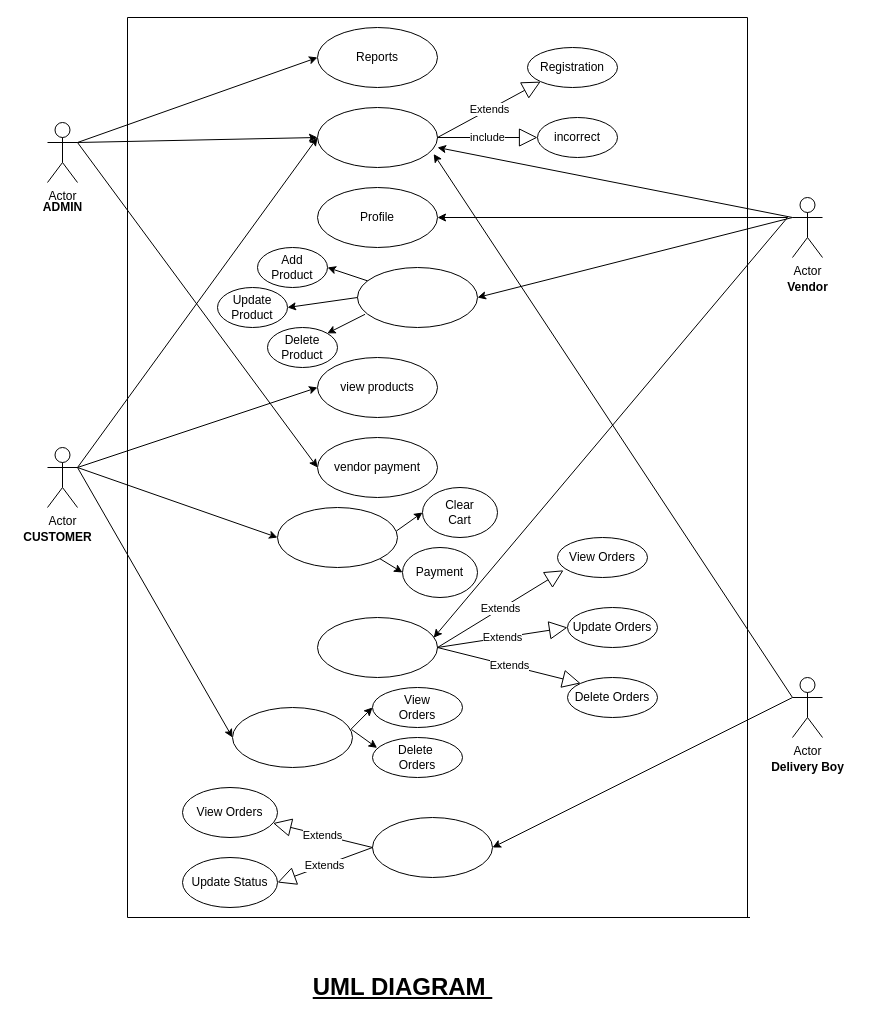
Image size: 869x1019. Some labels were removed from this diagram. The shapes that lost their labels are listed below. From the top down, each one's centre as x and y in pixels, then its label:
At point 377,137: "Aunthentication".
At point 417,297: "product management".
At point 337,537: "cart management".
At point 377,647: "Order Management Seller".
At point 292,737: "Orders Management Customer".
At point 432,847: "Orders Management Delivery Boy".
